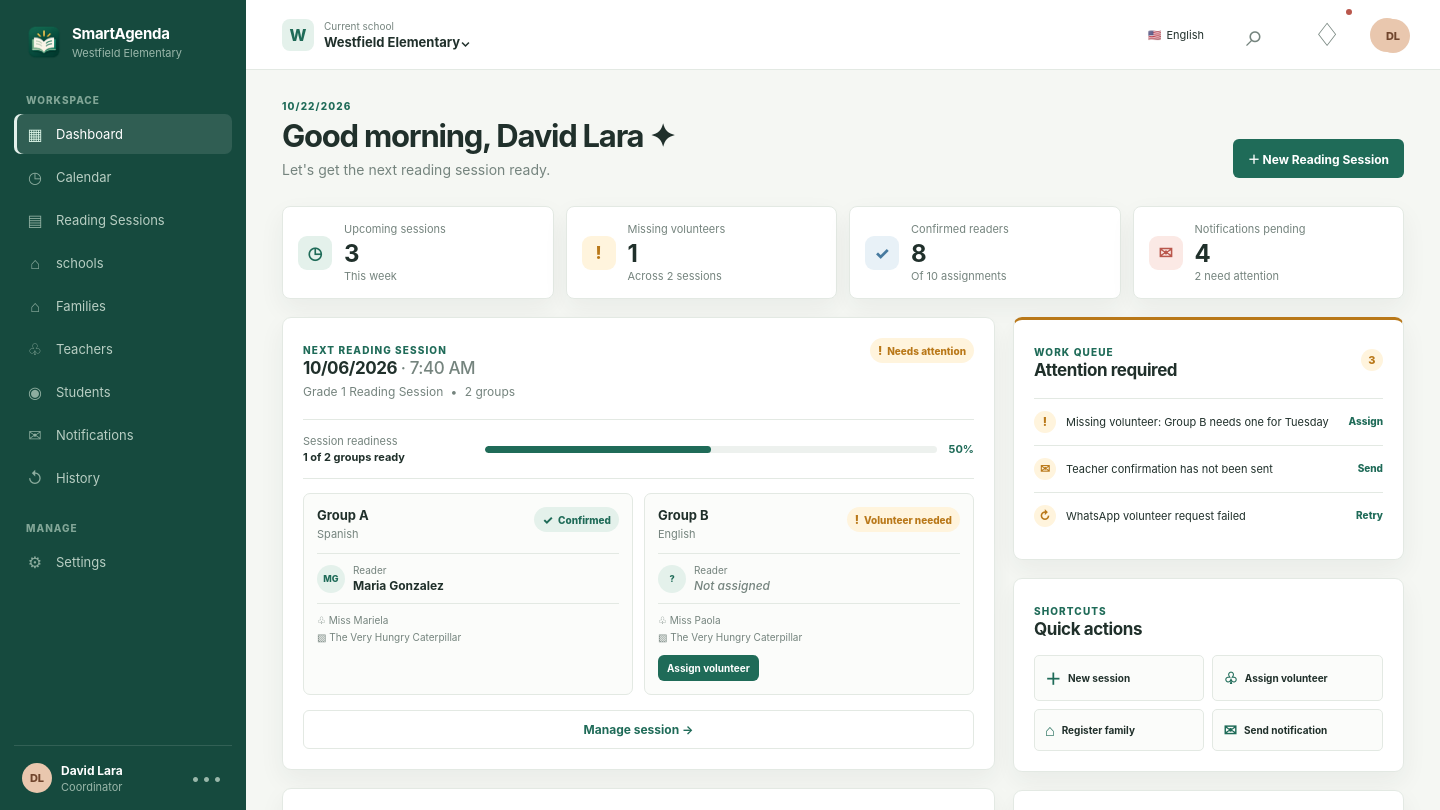
Test case: search and notification controls expose real interactions
What coordinates should you click on to do the following:
click the button named "Search"
I would click on:
 (1255, 34)
Its box is [1226,6,1284,64].
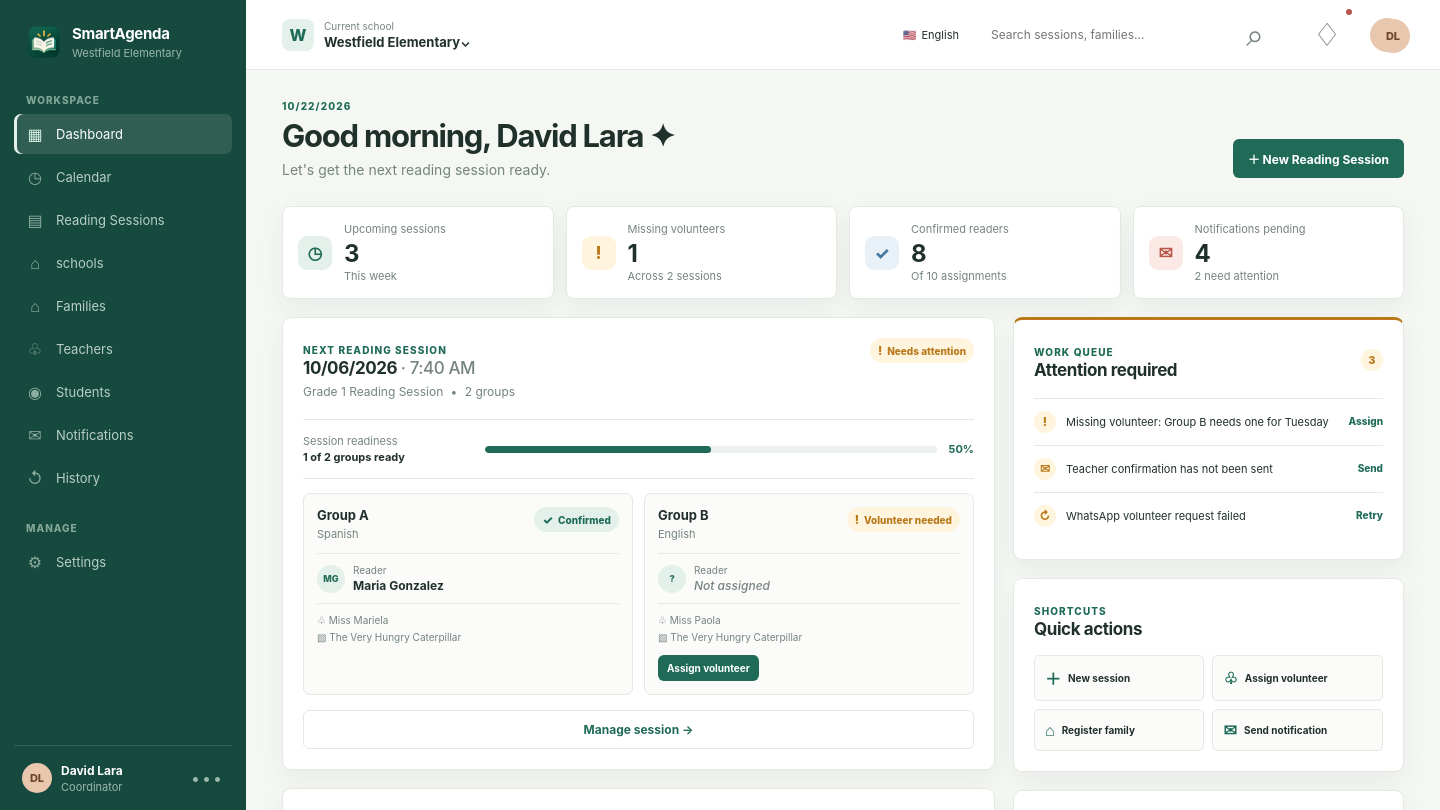
Expected: the field labelled "Search" is shown, [981,19,1226,50]
What coordinates should you click on to do the following:
click the button named "Open notifications"
I would click on:
 (1327, 34)
Its box is [1298,6,1356,64].
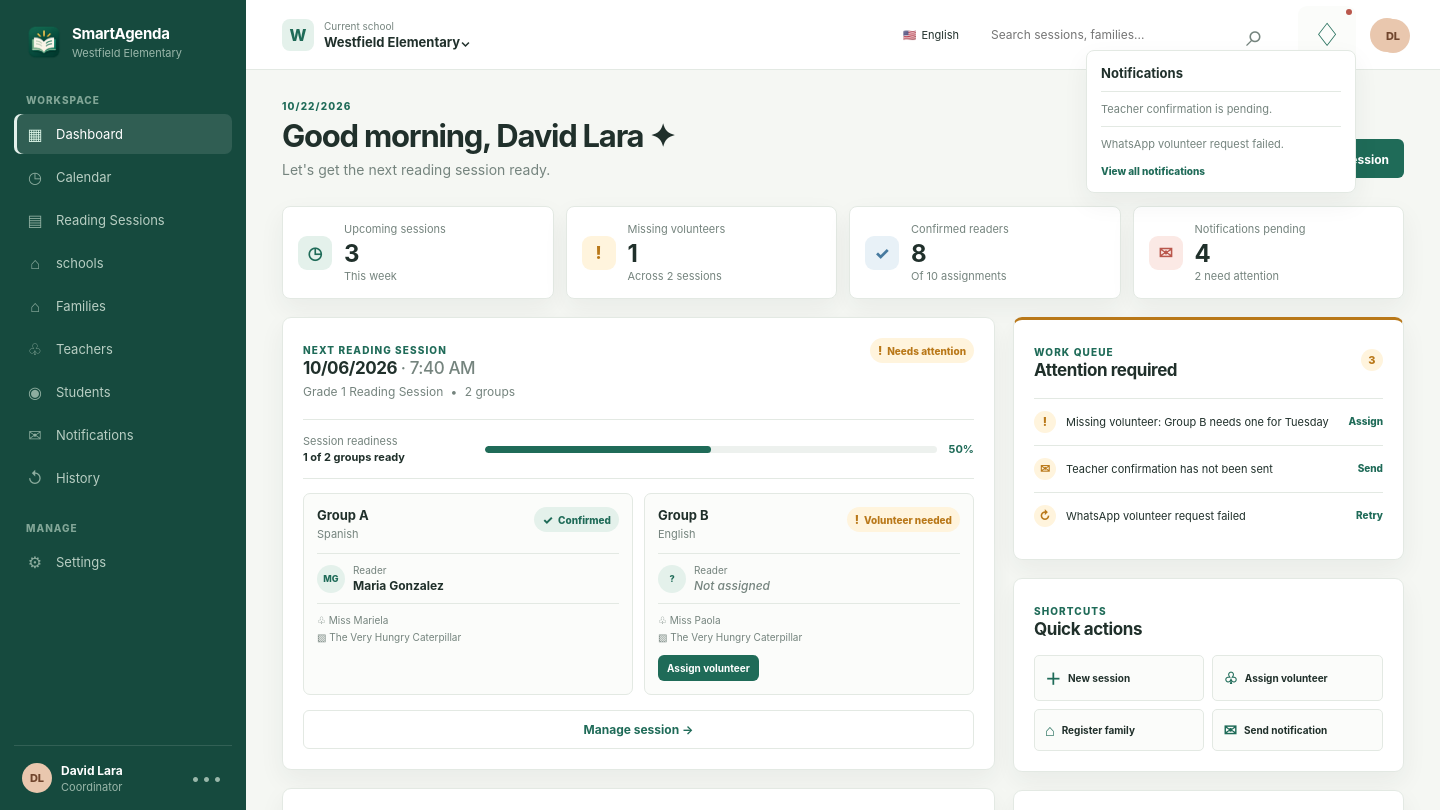
Expected: the text "Teacher confirmation is pending." is shown, [1101,90,1341,126]
